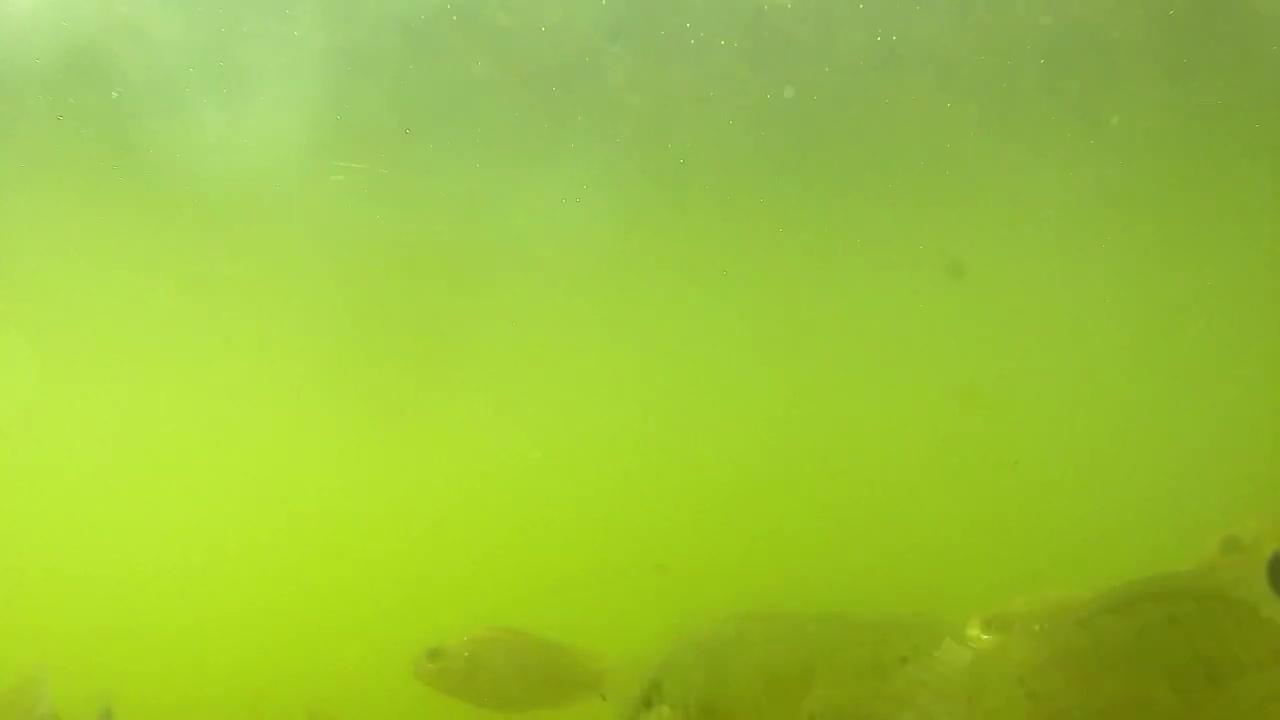Tilapia: (401, 598, 624, 720)
